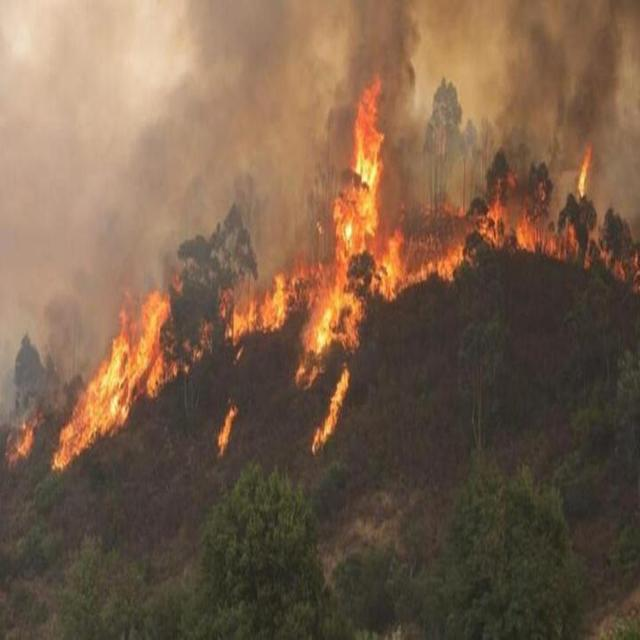fire: (102, 295, 168, 404), (340, 88, 384, 250), (316, 372, 354, 445), (327, 261, 355, 343), (64, 375, 89, 461), (241, 286, 295, 316), (217, 403, 246, 453), (389, 210, 403, 296)
